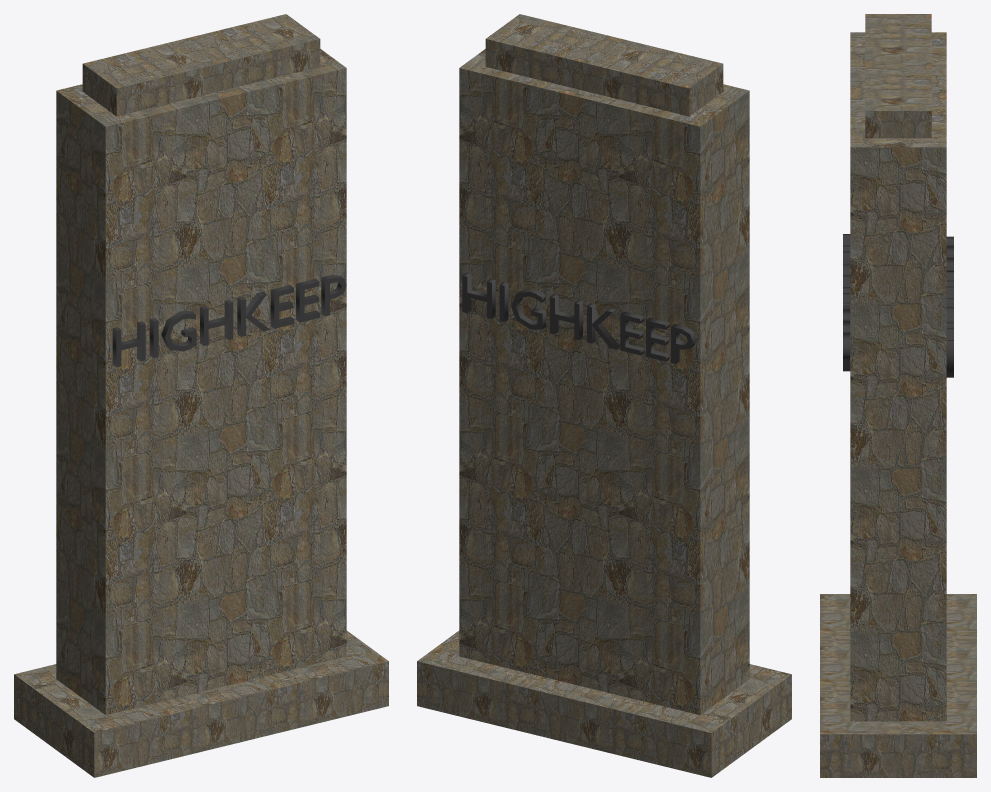
File: prop_gate_marker_hk.glb
3 views of the same model, side by side, from view 1: azimuth 30°, elevation 25°; view 2: azimuth 150°, elevation 25°; view 3: azimuth 270°, elevation 25° (orthographic). The views are drawn at different scales.
Parts seen in each view (by area): view 1: prop_gate_marker_hk; view 2: prop_gate_marker_hk; view 3: prop_gate_marker_hk.
Part boxes in pixels (x1=…): prop_gate_marker_hk: x1=14, y1=14, x2=388, y2=777; prop_gate_marker_hk: x1=417, y1=14, x2=791, y2=777; prop_gate_marker_hk: x1=820, y1=14, x2=976, y2=777.
Size of the model in its own units: 1.1 by 2.36 by 0.52.
2 materials, 1 textured.
